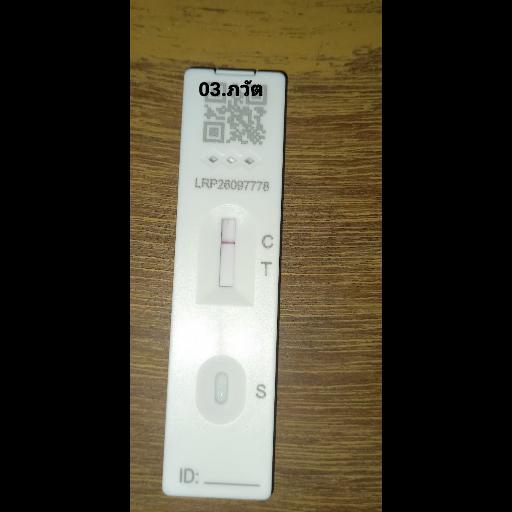Neg: (162, 68, 288, 500)
